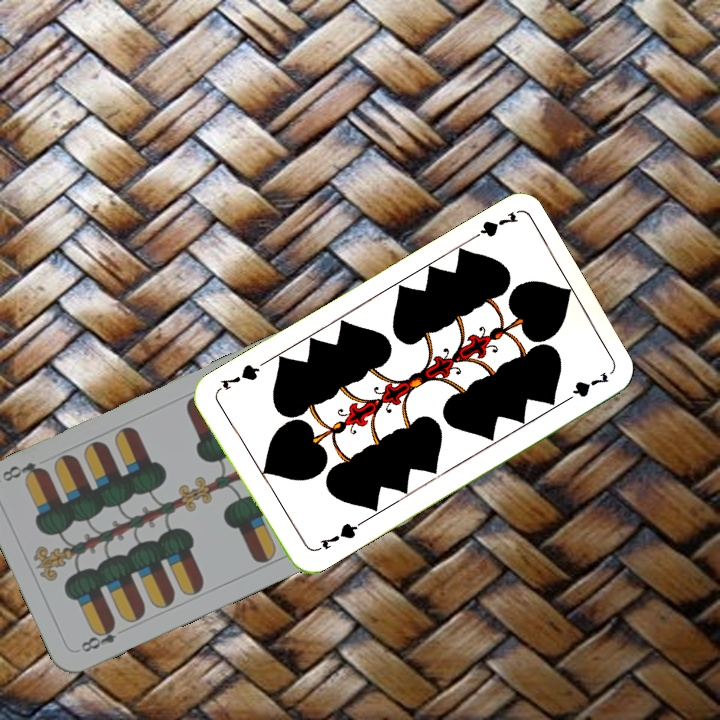E8: (74, 619, 120, 655)
G7: (463, 207, 521, 245), (309, 518, 363, 555)
